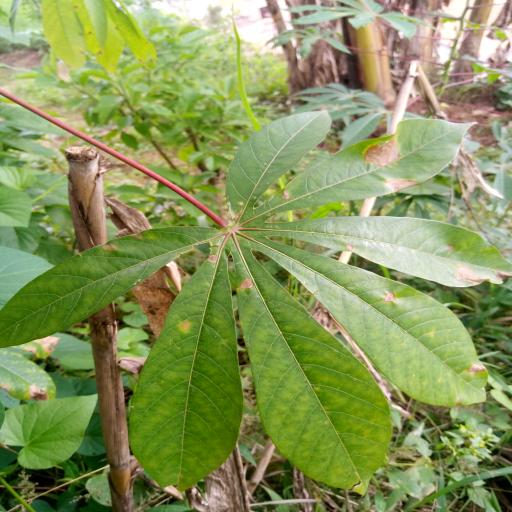Cassava_Brown_Leaf_Spot: (11, 106, 512, 500)
